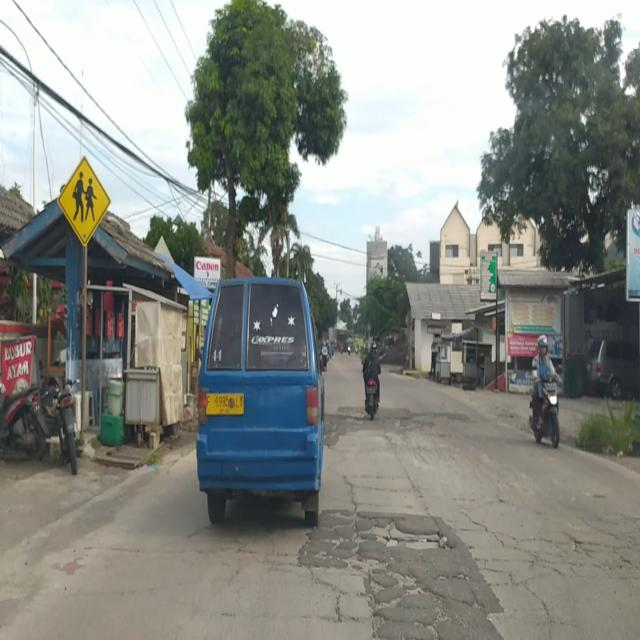Drain Hole: (307, 504, 640, 636)
Sewer Cover: (60, 542, 305, 560)
